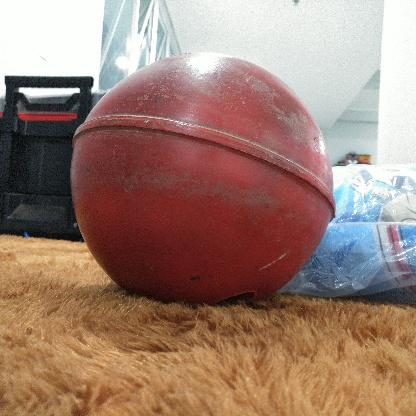red_buoy: (70, 49, 338, 309)
